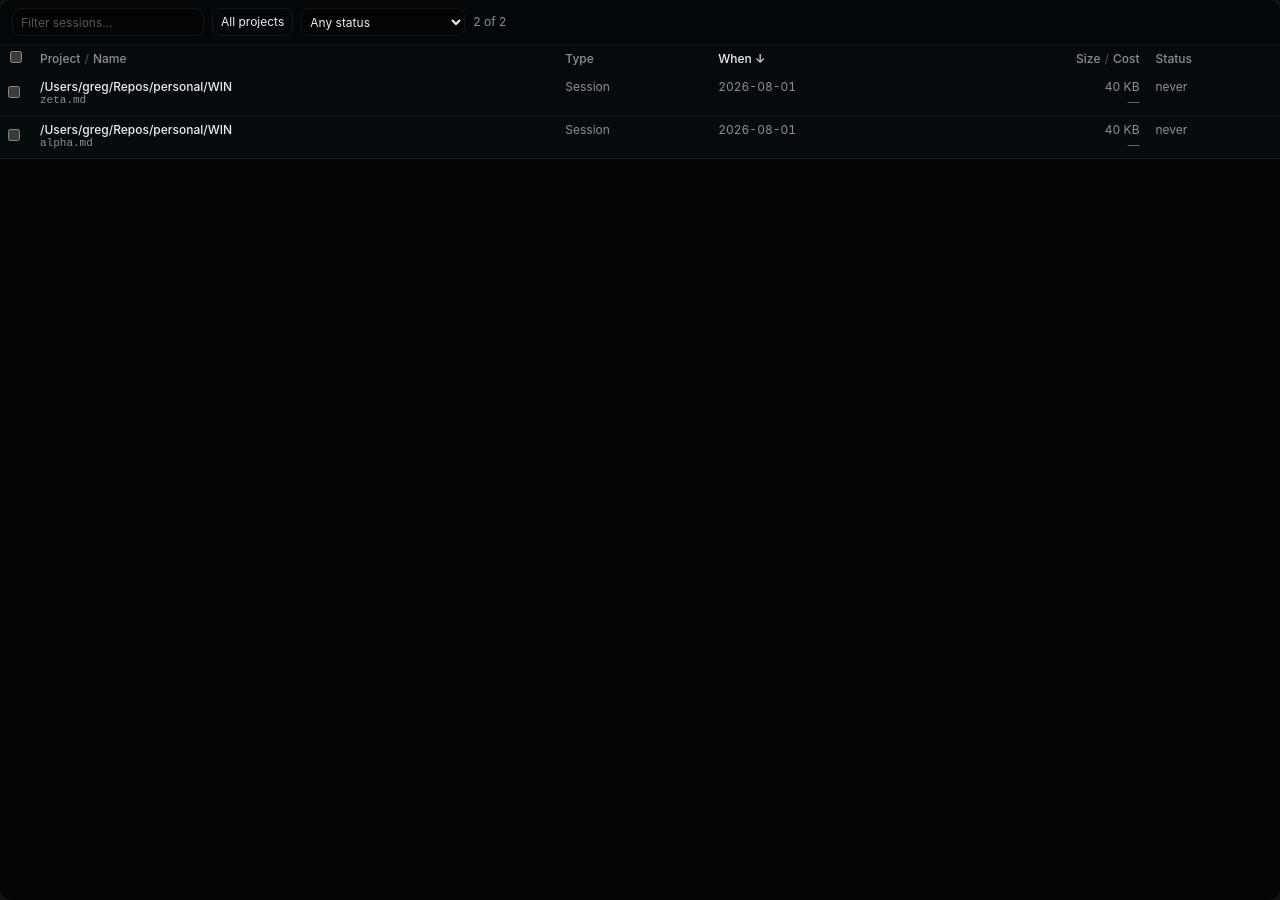
Test: BrainSourcesTable — Name column › sorts by name
This screenshot has width=1280, height=900.
Click the button "Name": coordinates (110, 59) [93,51,126,67]
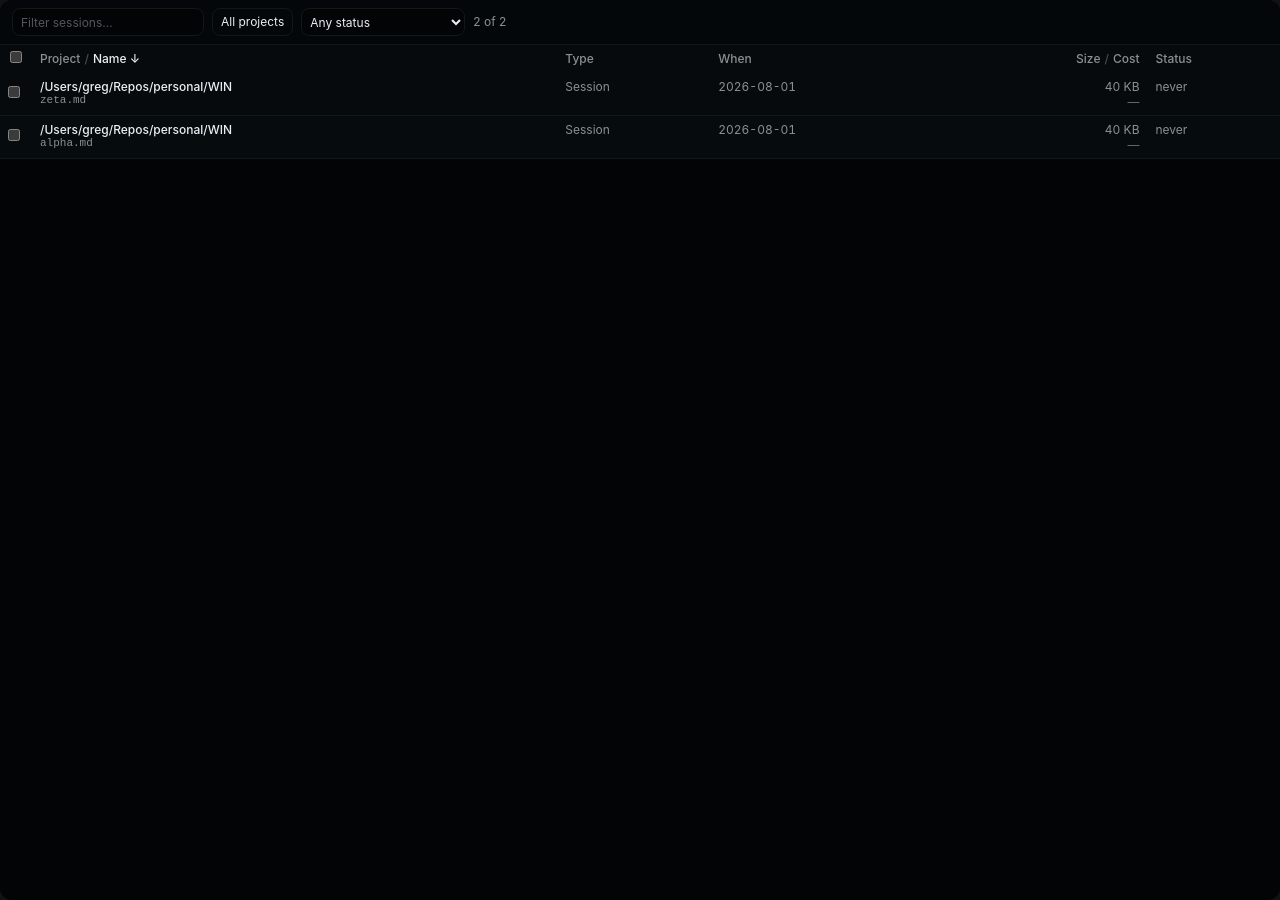
Expected: the elements with test id "source-name" read "zeta.md", "alpha.md", in this order, [40,94,86,108]; [40,137,93,151]
Click the button "Name ↓": coordinates (116, 59) [93,51,140,67]
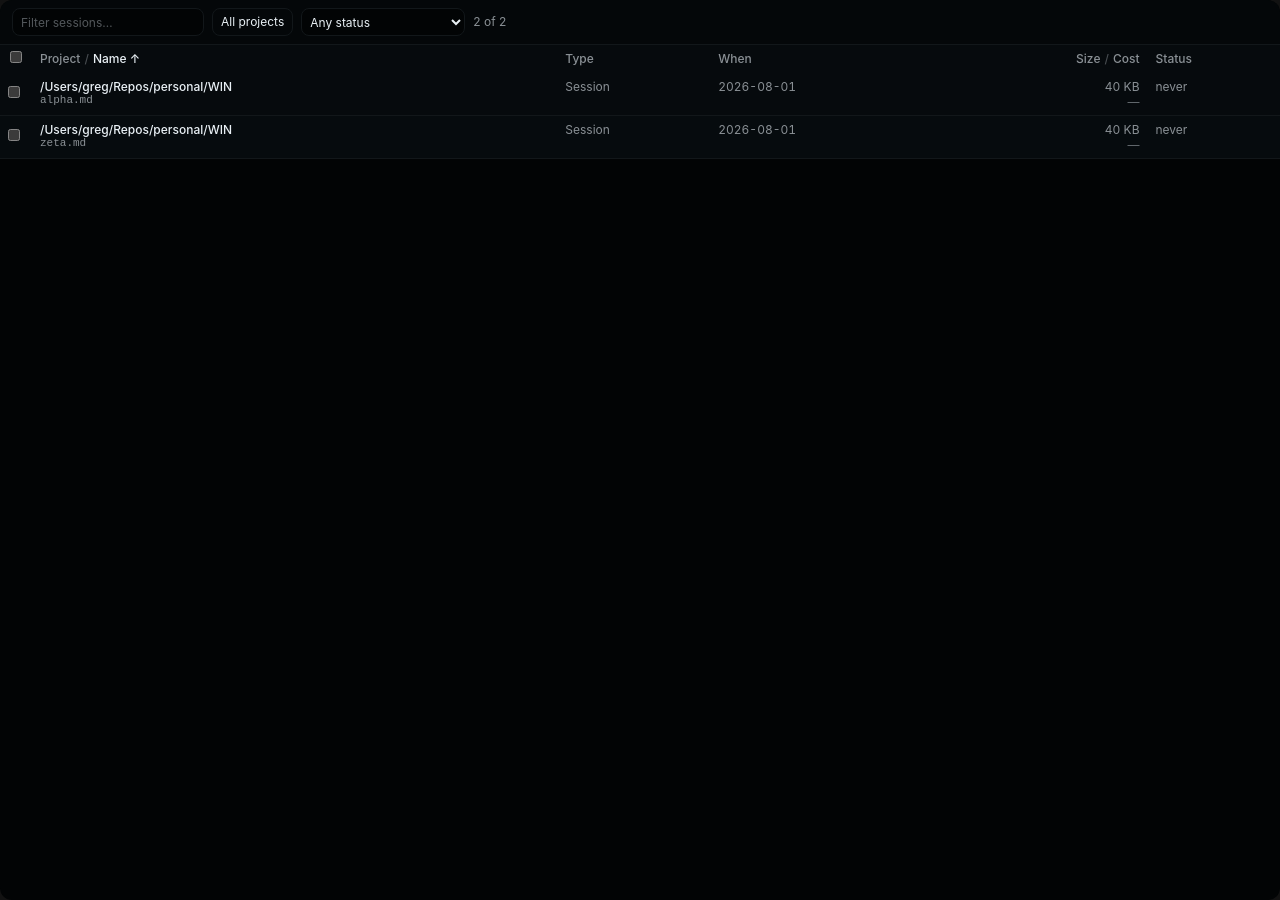
Result: the elements with test id "source-name" read "alpha.md", "zeta.md", in this order at [40,94,93,108]; [40,137,86,151]
